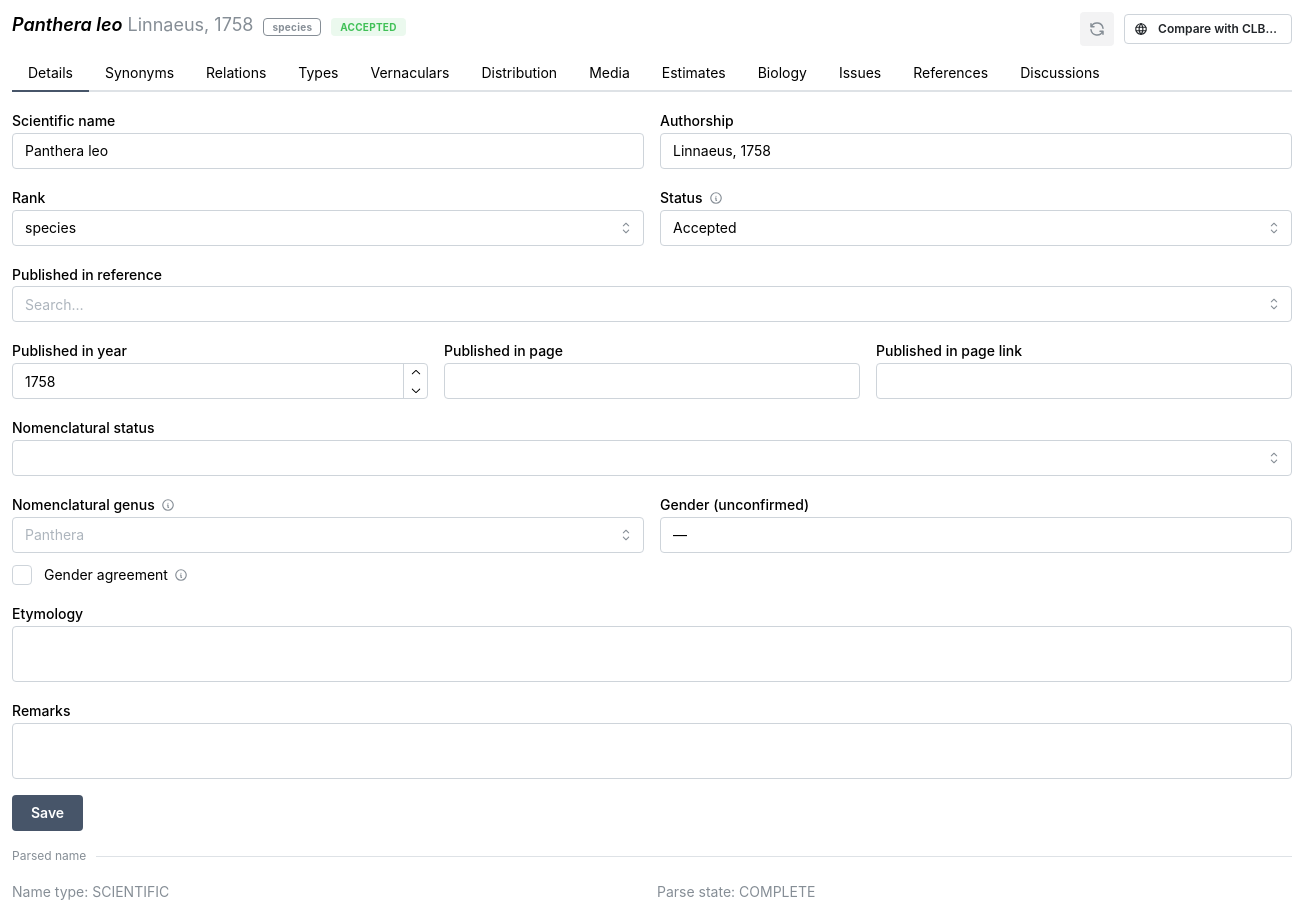
Scenario: editing authorship and saving PUTs the update with the loaded version
The width and height of the screenshot is (1304, 912).
Replace the text in the field labelled "Authorship" with "L., 1758" at (976, 151), box top-left (660, 133), bottom-right (1292, 169)
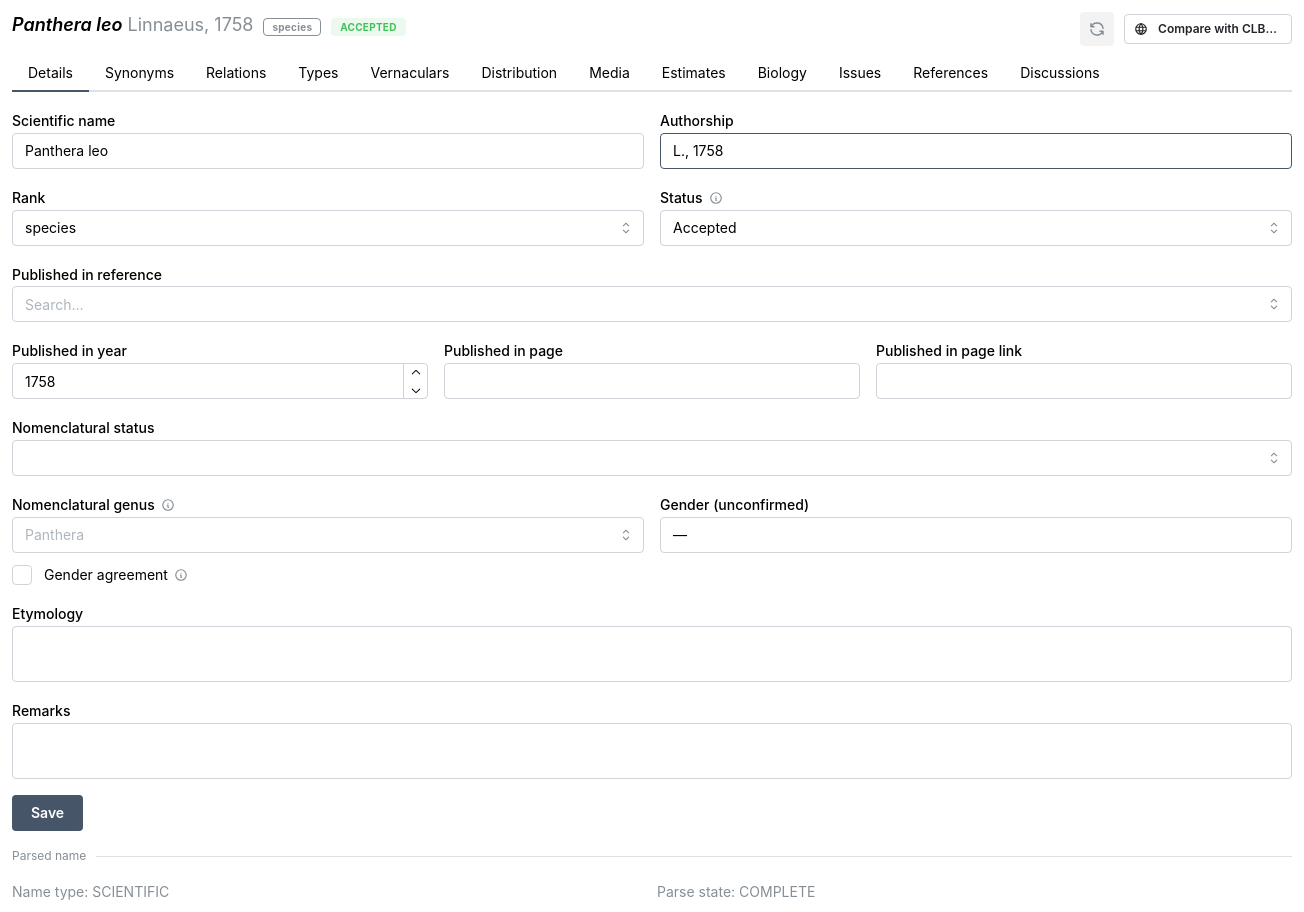
Click the button "Save" at (48, 813), box top-left (12, 795), bottom-right (83, 831)
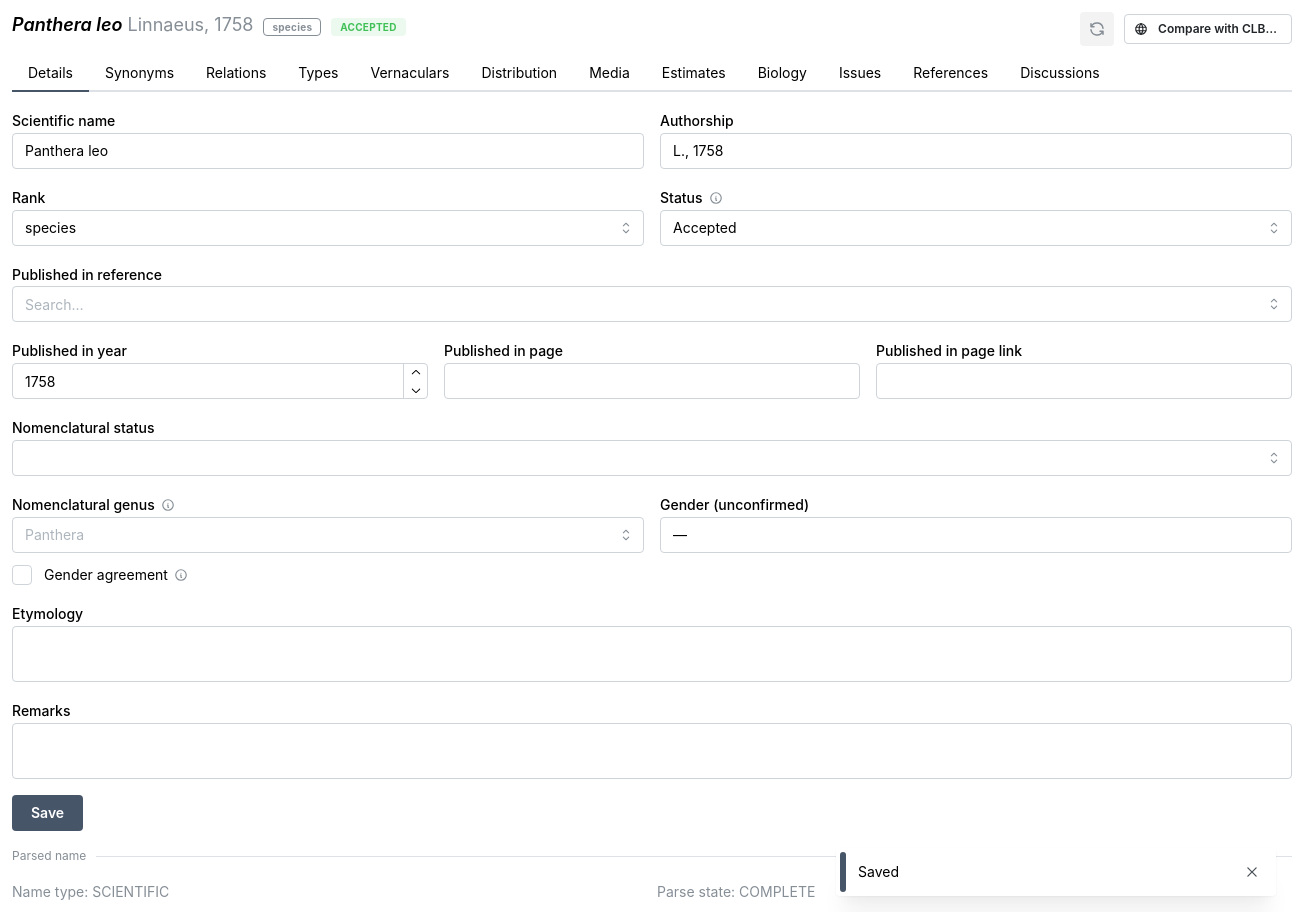
Expected: the text "Panthera leo" is shown, top-left (12, 14), bottom-right (122, 35)
Result: the text "Saved" is shown at top-left (858, 863), bottom-right (899, 880)
